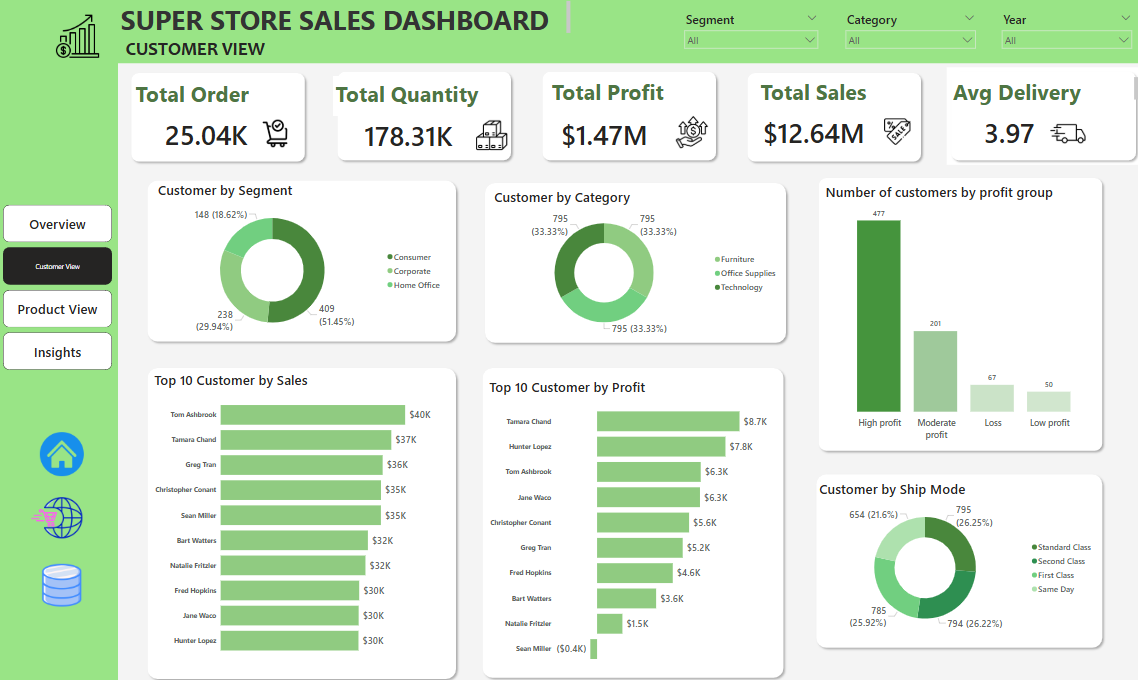

The dashboard page shown, as its layout file describes it:
{"tool":"powerbi","page":{"name":"Customer View","canvas":[2300,1400],"ordinal":1},"visuals":[{"type":"shape","box":[0,0,2300,135],"z":0},{"type":"shape","box":[0,127.5,240,1272.5],"z":1000},{"type":"textbox","box":[240,5,910,77.5],"z":2000},{"type":"image","box":[76.4,32.1,162.7,96.2],"z":3000},{"type":"shape","box":[258.6,145.3,365,195],"z":4000},{"type":"shape","box":[669.3,142.8,365,195],"z":5000},{"type":"shape","box":[1080,142.8,365,195],"z":6000},{"type":"shape","box":[1490.7,143.8,365,195],"z":7000},{"type":"card","fields":{"Values":["superstore_sales_clean.Total Order"]},"box":[246.3,207.3,337.8,135.6],"z":8000},{"type":"textbox","box":[270.9,160.4,257.5,80],"z":9000},{"type":"image","box":[462.5,242.5,182.5,65],"z":10000},{"type":"card","fields":{"Values":["superstore_sales_clean.Total Quantity"]},"box":[681.1,212.5,281.1,128.2],"z":11000},{"type":"textbox","box":[670.7,160.7,317.5,80],"z":12000},{"type":"image","box":[905,242.5,165,72.5],"z":13000},{"type":"card","fields":{"Values":["superstore_sales_clean.Total Profit"]},"box":[1062.5,220.3,300,112.5],"z":14000},{"type":"textbox","box":[1102.5,157.8,260,77.5],"z":15000},{"type":"image","box":[1330,235,115,75],"z":16000},{"type":"card","fields":{"Values":["superstore_sales_clean.Total Sales"]},"box":[1492.5,217.8,277.5,110],"z":17000},{"type":"textbox","box":[1520,157.8,257.5,80],"z":18000},{"type":"image","box":[1742.5,240,112.5,62.5],"z":19000},{"type":"shape","box":[290,360,635,340],"z":20000},{"type":"donutChart","title":"Customer by Segment","fields":{"Category":["superstore_sales_clean.segment"],"Y":["superstore_sales_clean.Total Customer"]},"box":[315,370,582.5,322.5],"z":21000},{"type":"shape","box":[290,734.4,635,640],"z":22000},{"type":"clusteredBarChart","title":"Top 10 Customer by Sales","fields":{"Category":["superstore_sales_clean.customer_name"],"Y":["superstore_sales_clean.Total Sales"]},"box":[307.5,750,590,585],"z":23000},{"type":"shape","box":[1627.5,947.5,590,365],"z":24000},{"type":"shape","box":[1897.5,142.5,387.5,195],"z":25000},{"type":"card","fields":{"Values":["superstore_sales_clean.Avg Delivery Days"]},"box":[1905,220,235,102.5],"z":26000},{"type":"textbox","box":[1904.6,156.9,380.4,80.8],"z":27000},{"type":"image","box":[2080,235,120,80],"z":28000},{"type":"slicer","fields":{"Values":["Date Table.Year"]},"box":[1997.5,25,280,85],"z":29000},{"type":"shape","box":[1633.3,355,585,563.3],"z":30000},{"type":"shape","box":[965,365,620,337.5],"z":31000},{"type":"donutChart","title":"Customer by Category","fields":{"Category":["superstore_sales_clean.category"],"Y":["superstore_sales_clean.Total Customer"]},"box":[987.5,382.5,582.5,307.5],"z":32000},{"type":"slicer","fields":{"Values":["superstore_sales_clean.category"]},"box":[1685,25,280,85],"z":33000},{"type":"slicer","fields":{"Values":["superstore_sales_clean.segment"]},"box":[1362.5,25,287.5,85],"z":34000},{"type":"shape","box":[960,735.6,620,637.5],"z":35000},{"type":"clusteredBarChart","title":"Top 10 Customer by Profit","fields":{"Category":["superstore_sales_clean.customer_name"],"Y":["superstore_sales_clean.Total Profit"]},"box":[977.2,763.3,570.7,589.7],"z":36000},{"type":"donutChart","title":"Customer by Ship Mode","fields":{"Y":["superstore_sales_clean.Total Customer"],"Category":["superstore_sales_clean.ship_mode"]},"box":[1637.5,967.5,562.5,317.5],"z":37000},{"type":"clusteredColumnChart","title":"Number of customers by profit group","fields":{"Category":["Customer Summary.profit_group"],"Y":["CountNonNull(Customer Summary.customer_name)"]},"box":[1650.1,373.3,549.3,523.1],"z":38000},{"type":"image","box":[79.5,1131.2,95,97.5],"z":39000},{"type":"image","box":[72,868.7,110,97.5],"z":40000},{"type":"image","box":[59.5,988.7,115,112.5],"z":41000},{"type":"textbox","box":[249.7,78.5,299.6,57.1],"z":42000},{"type":"pageNavigator","box":[9.5,418.5,218.8,330.5],"z":43000}]}

Visuals, with their boxes in screenshot pixels (x1, y1, x2, y2), scaled from the page's 2300x1400 canvas onto the 1138x680 screenshot:
shape: x1=0, y1=0, x2=1137, y2=66
shape: x1=0, y1=62, x2=119, y2=679
textbox: x1=119, y1=2, x2=569, y2=40
image: x1=38, y1=16, x2=118, y2=62
shape: x1=128, y1=71, x2=309, y2=165
shape: x1=331, y1=69, x2=512, y2=164
shape: x1=534, y1=69, x2=715, y2=164
shape: x1=738, y1=70, x2=918, y2=165
card - superstore_sales_clean.Total Order: x1=122, y1=101, x2=289, y2=167
textbox: x1=134, y1=78, x2=261, y2=117
image: x1=229, y1=118, x2=319, y2=149
card - superstore_sales_clean.Total Quantity: x1=337, y1=103, x2=476, y2=165
textbox: x1=332, y1=78, x2=489, y2=117
image: x1=448, y1=118, x2=529, y2=153
card - superstore_sales_clean.Total Profit: x1=526, y1=107, x2=674, y2=162
textbox: x1=545, y1=77, x2=674, y2=114
image: x1=658, y1=114, x2=715, y2=151
card - superstore_sales_clean.Total Sales: x1=738, y1=106, x2=876, y2=159
textbox: x1=752, y1=77, x2=879, y2=116
image: x1=862, y1=117, x2=918, y2=147
shape: x1=143, y1=175, x2=458, y2=340
"Customer by Segment" donutChart: x1=156, y1=180, x2=444, y2=336
shape: x1=143, y1=357, x2=458, y2=668
"Top 10 Customer by Sales" clusteredBarChart: x1=152, y1=364, x2=444, y2=648
shape: x1=805, y1=460, x2=1097, y2=638
shape: x1=939, y1=69, x2=1131, y2=164
card - superstore_sales_clean.Avg Delivery Days: x1=943, y1=107, x2=1059, y2=157
textbox: x1=942, y1=76, x2=1131, y2=115
image: x1=1029, y1=114, x2=1089, y2=153
slicer - Date Table.Year: x1=988, y1=12, x2=1127, y2=53
shape: x1=808, y1=172, x2=1098, y2=446
shape: x1=477, y1=177, x2=784, y2=341
"Customer by Category" donutChart: x1=489, y1=186, x2=777, y2=335
slicer - superstore_sales_clean.category: x1=834, y1=12, x2=972, y2=53
slicer - superstore_sales_clean.segment: x1=674, y1=12, x2=816, y2=53
shape: x1=475, y1=357, x2=782, y2=667
"Top 10 Customer by Profit" clusteredBarChart: x1=484, y1=371, x2=766, y2=657
"Customer by Ship Mode" donutChart: x1=810, y1=470, x2=1089, y2=624
"Number of customers by profit group" clusteredColumnChart: x1=816, y1=181, x2=1088, y2=435
image: x1=39, y1=549, x2=86, y2=597
image: x1=36, y1=422, x2=90, y2=469
image: x1=29, y1=480, x2=86, y2=535
textbox: x1=124, y1=38, x2=272, y2=66
pageNavigator: x1=5, y1=203, x2=113, y2=364
